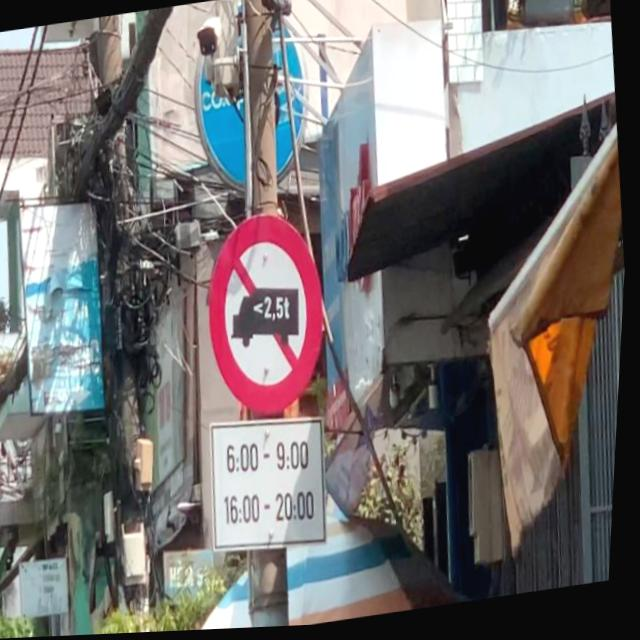Cam xe tai tren 2_5: (197, 206, 341, 425)
